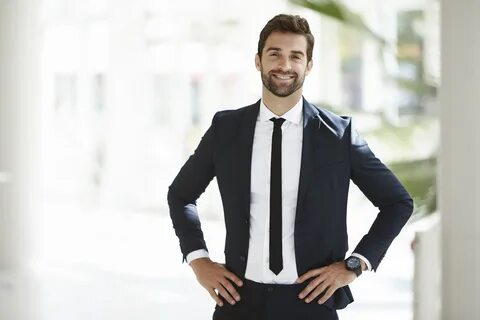awake: (165, 13, 415, 320)
